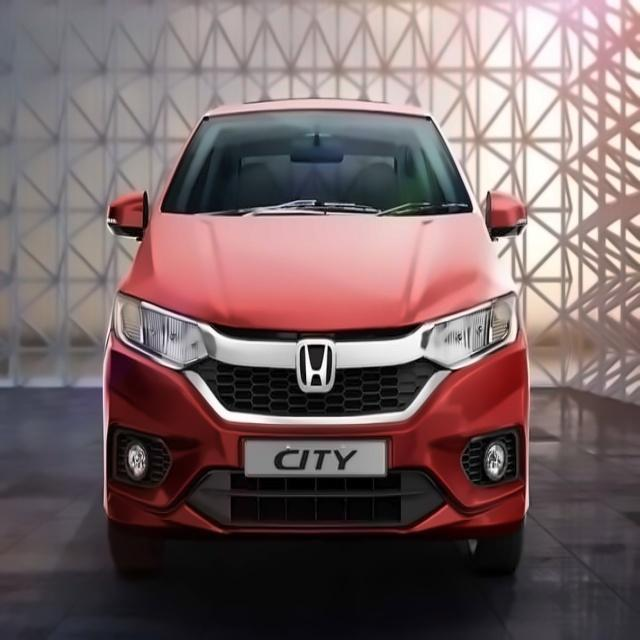Car hood: (114, 204, 519, 337)
Front bumper: (79, 343, 539, 547)
Headlight - -L-: (410, 280, 531, 383)
Headlight - -R-: (96, 279, 219, 381)
Side mirror - -L-: (473, 179, 536, 242)
Side mirror - -R-: (99, 183, 167, 250)
